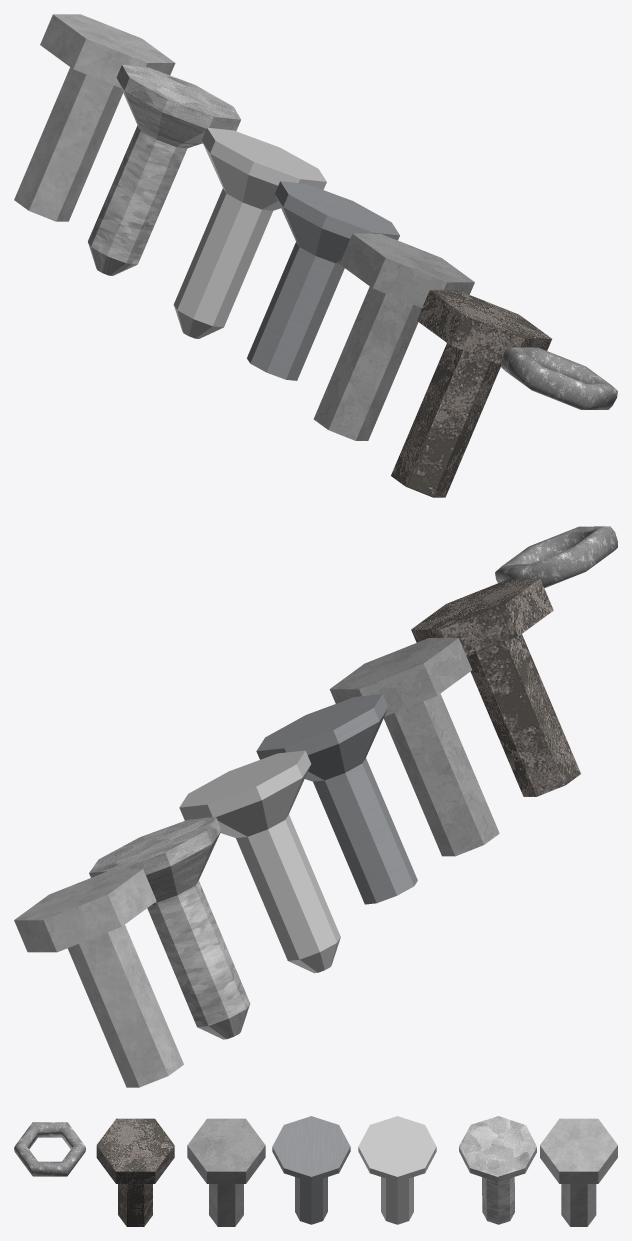
Rendered from TORNILLOS.fbx.
3 views of the same model, one above another, from view 1: azimuth 30°, elevation 25°; view 2: azimuth 150°, elevation 25°; view 3: azimuth 270°, elevation 25° (orthographic). The views are drawn at different scales.
Parts seen in each view (by area): view 1: TORNILLOS6, TORNILLOS5, TORNILLOS1, TORNILLOS2, TORNILLOS3, TORNILLOS4, TORNILLOS7; view 2: TORNILLOS1, TORNILLOS6, TORNILLOS5, TORNILLOS3, TORNILLOS2, TORNILLOS4, TORNILLOS7; view 3: TORNILLOS1, TORNILLOS5, TORNILLOS6, TORNILLOS3, TORNILLOS2, TORNILLOS4, TORNILLOS7.
Part boxes in pixels (<box>): TORNILLOS6: <box>391,290,551,497</box>; TORNILLOS5: <box>313,233,474,440</box>; TORNILLOS1: <box>14,14,175,221</box>; TORNILLOS2: <box>88,64,240,275</box>; TORNILLOS3: <box>173,127,326,338</box>; TORNILLOS4: <box>247,181,399,380</box>; TORNILLOS7: <box>501,347,617,409</box>; TORNILLOS1: <box>14,869,183,1087</box>; TORNILLOS6: <box>411,578,580,796</box>; TORNILLOS5: <box>329,638,499,856</box>; TORNILLOS3: <box>179,750,340,973</box>; TORNILLOS2: <box>89,816,250,1039</box>; TORNILLOS4: <box>256,694,417,904</box>; TORNILLOS7: <box>495,526,617,587</box>; TORNILLOS1: <box>540,1118,617,1226</box>; TORNILLOS5: <box>187,1118,265,1226</box>; TORNILLOS6: <box>96,1118,174,1226</box>; TORNILLOS3: <box>358,1116,436,1224</box>; TORNILLOS2: <box>459,1116,536,1224</box>; TORNILLOS4: <box>272,1116,350,1224</box>; TORNILLOS7: <box>14,1122,85,1176</box>.
Bounding box in the file's own units: 2.66 × 3.41 × 16.51.
